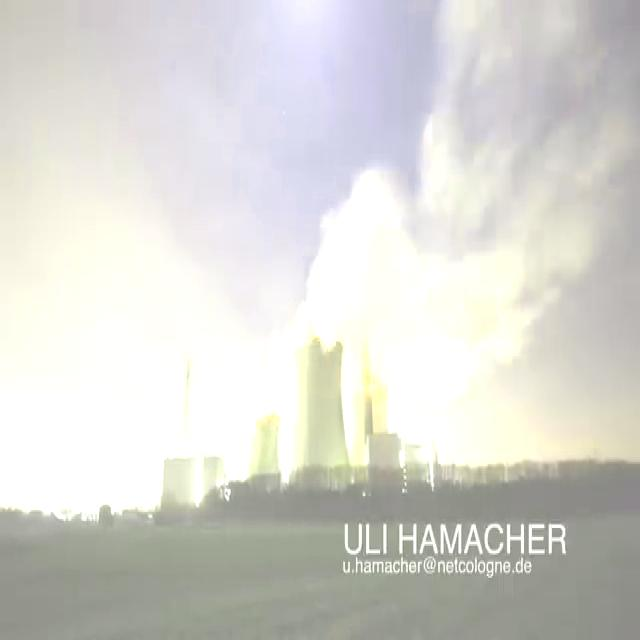smoke: (243, 0, 591, 480)
